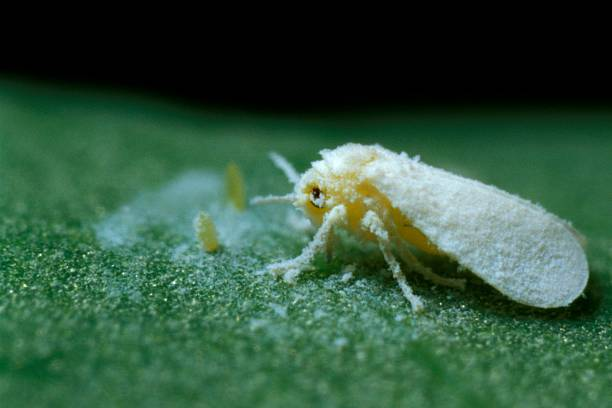Tobacco Whitefly: (260, 125, 601, 334)
